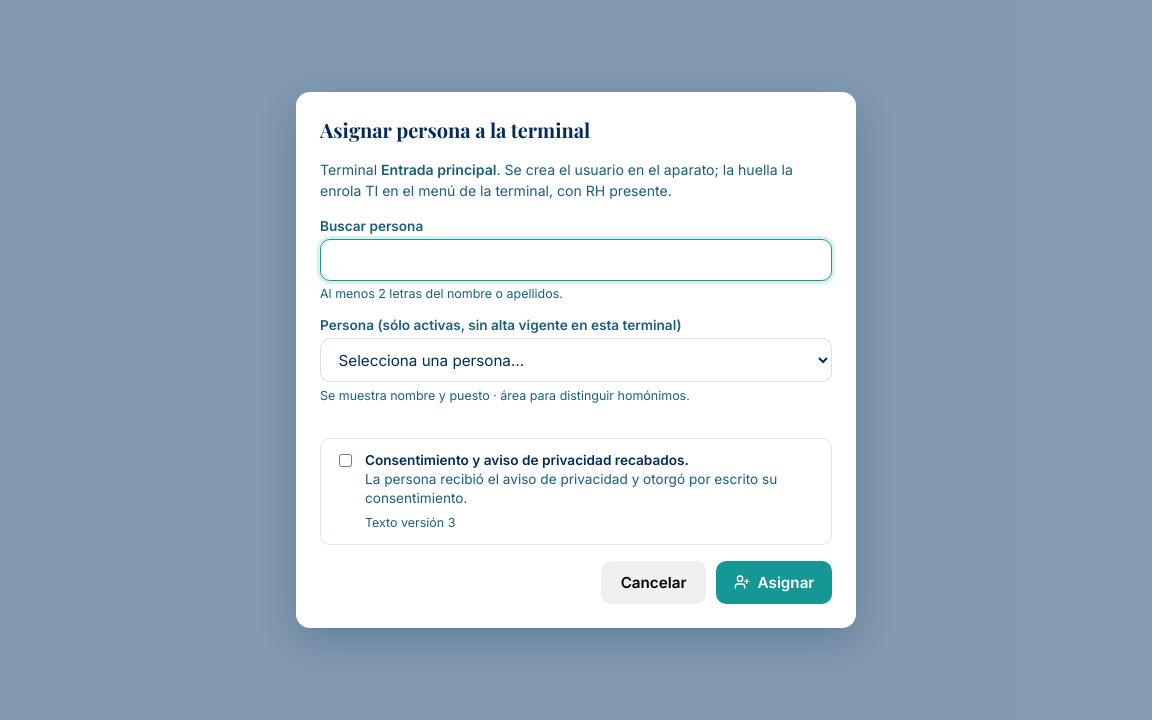
it: AsignarPersonaTerminalModal › tras el 409 el consentimiento queda DESMARCADO y Asignar no envía hasta marcarlo de nuevo
Step 1. Select "Ana Torres — Auxiliar de almacén · Bodega" in the dropdown labelled "Persona (sólo activas, sin alta vigente en esta terminal)" → (576, 360), box [320,338,832,382]
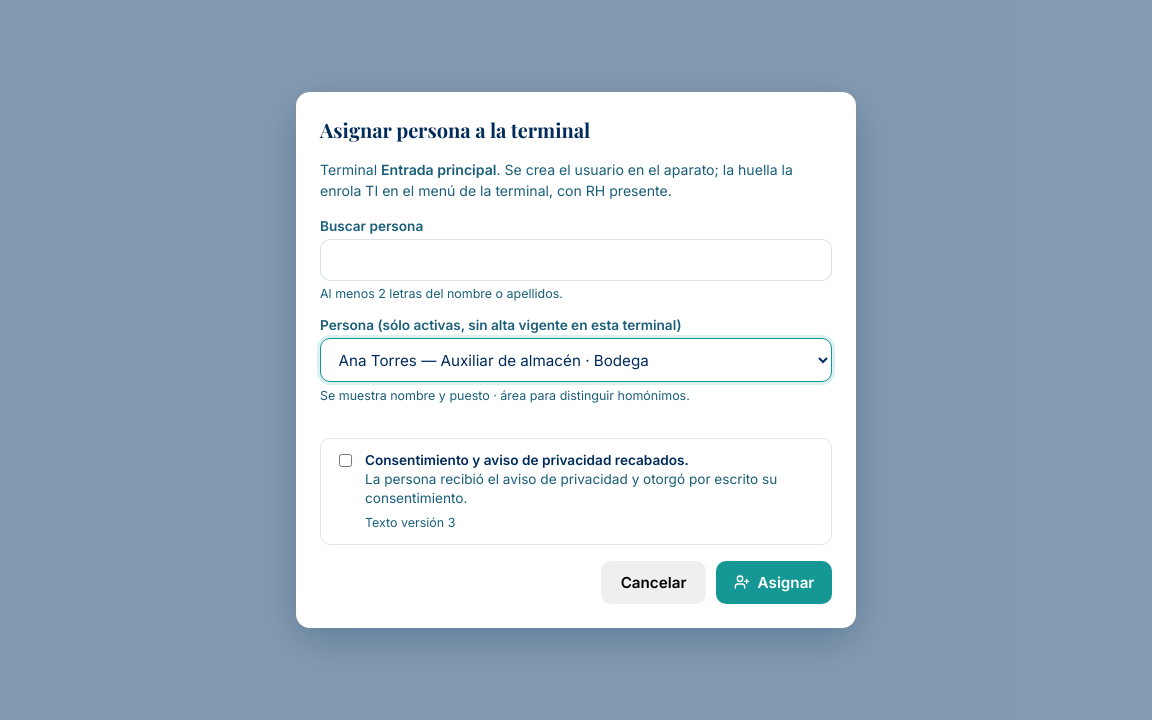
Step 2. Click the checkbox labelled "Consentimiento y aviso de privacidad recabados" → (346, 460), box [339,454,352,467]
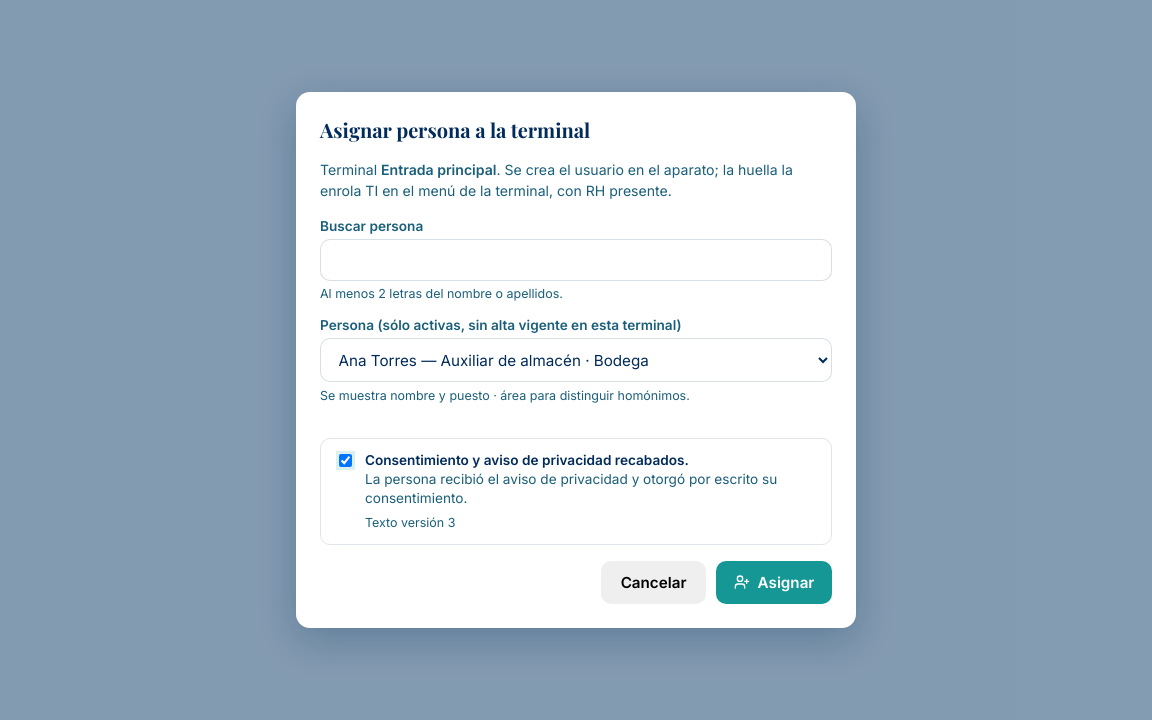
Step 3. Click the button "Asignar" → (774, 582), box [716,561,832,604]
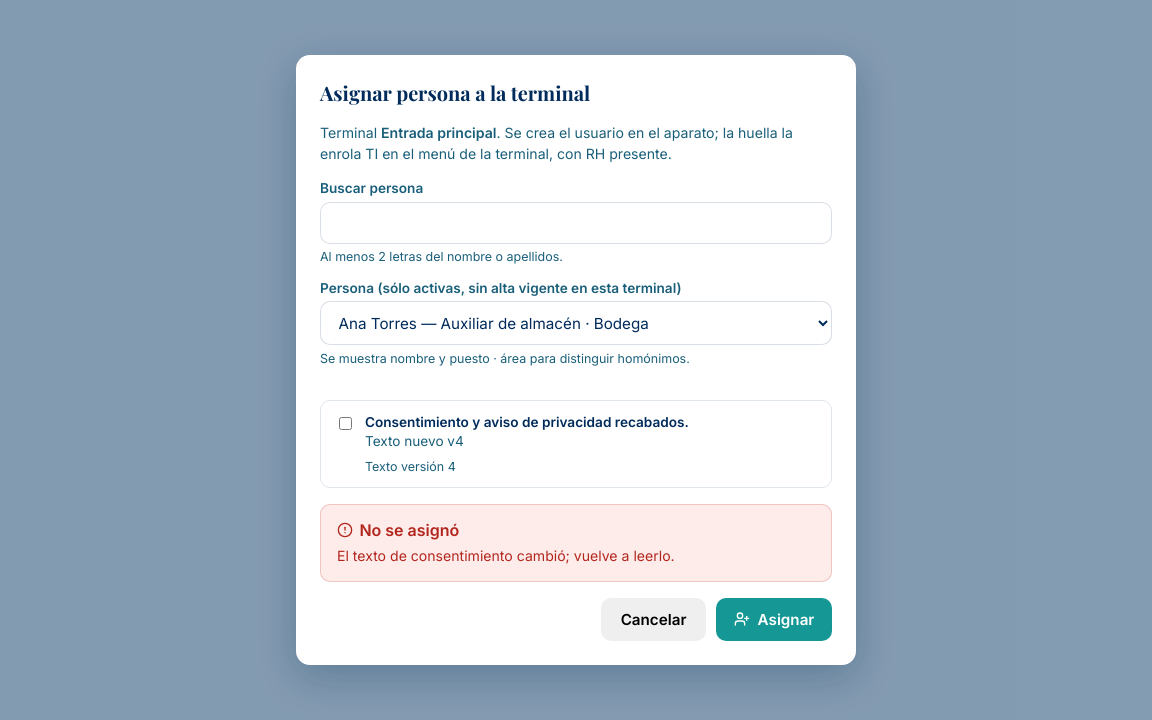
Expected: the checkbox labelled "Consentimiento y aviso de privacidad recabados" is not checked, [339,417,352,430]
Expected: the text "Texto nuevo v4" is shown, [365,434,464,450]
Step 4. Click the button "Asignar" → (774, 619), box [716,598,832,641]
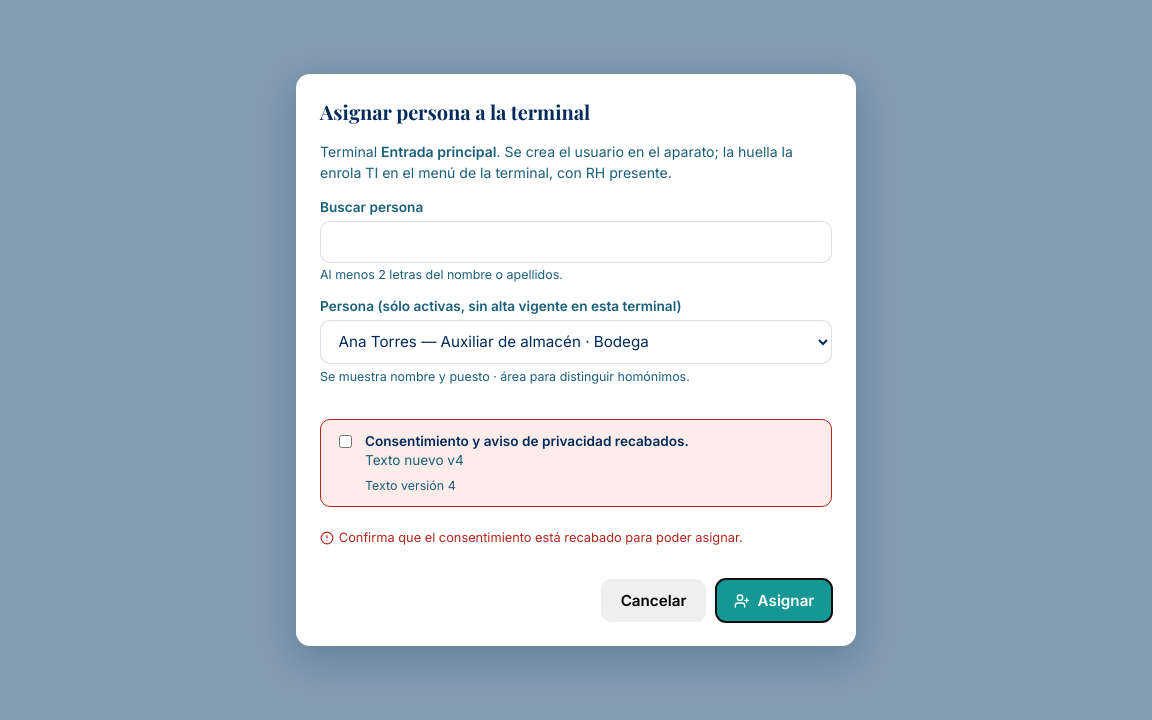
Expected: the text "Confirma que el consentimiento está recabado para poder asignar" is shown, [339,530,743,545]
